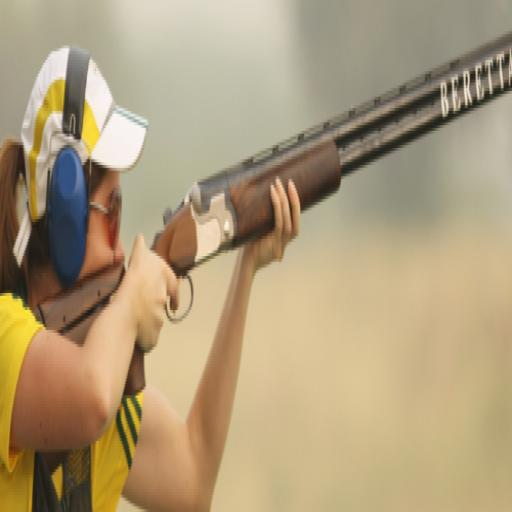shooting: (0, 43, 303, 509)
